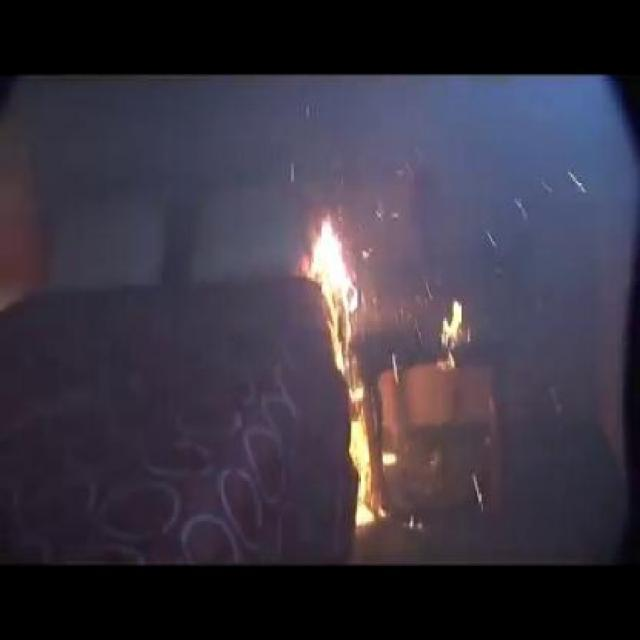fire: (304, 193, 454, 504)
